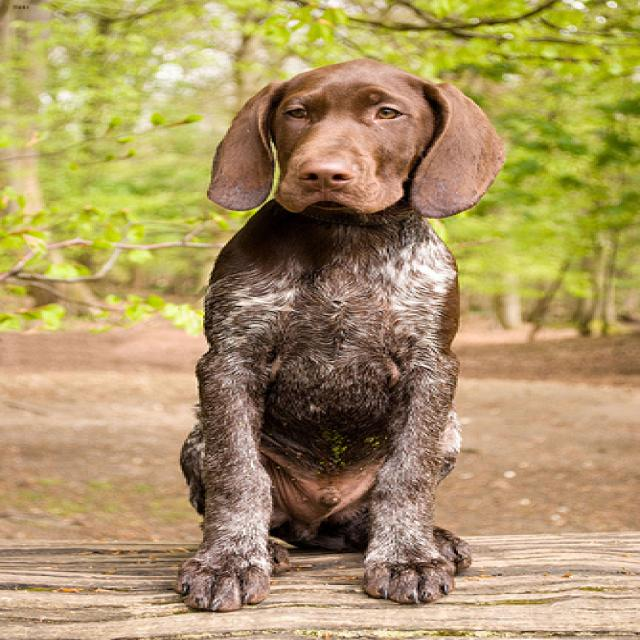dog-german_shorthaired: (153, 49, 523, 620)
